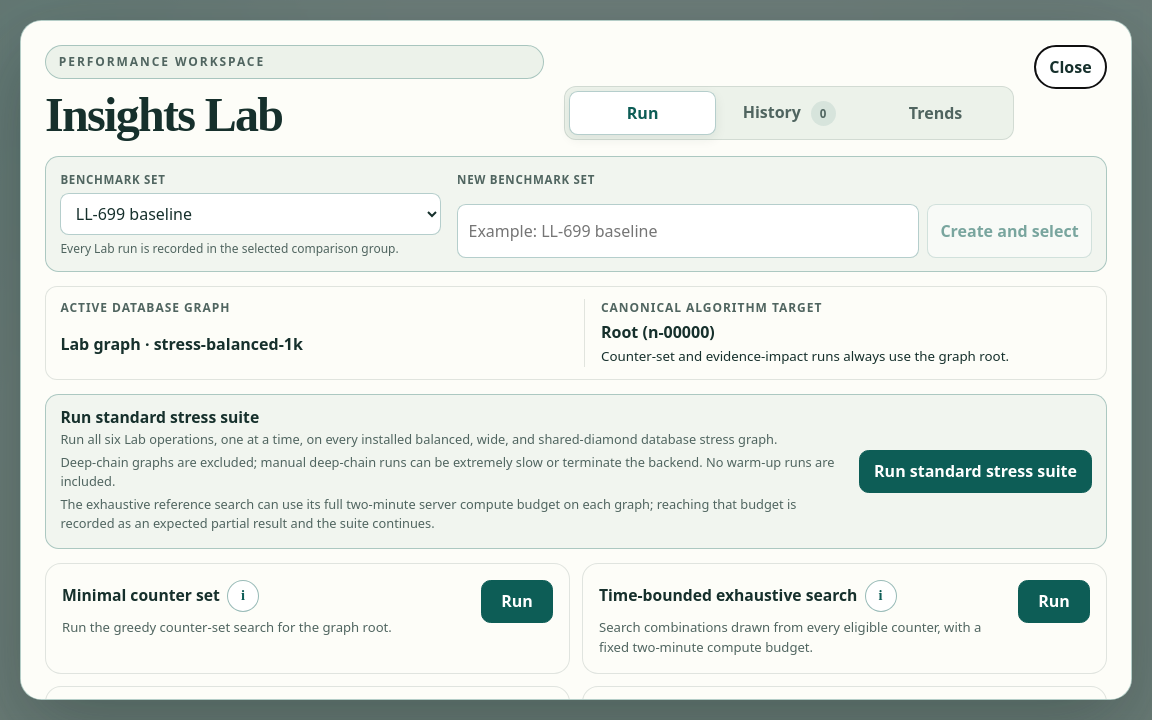
Test: InsightsLabDialog › uses and explains the canonical root for target-based stress runs
Expected: the text "Root (n-00000)" is shown, [601,321,715,343]
Expected: the text "Run the greedy counter-set search for the graph root." is shown, [62,618,392,638]
Click the button with aria-label "Run Minimal counter set": x=517, y=601 [481,580,553,623]
(page scrolled)
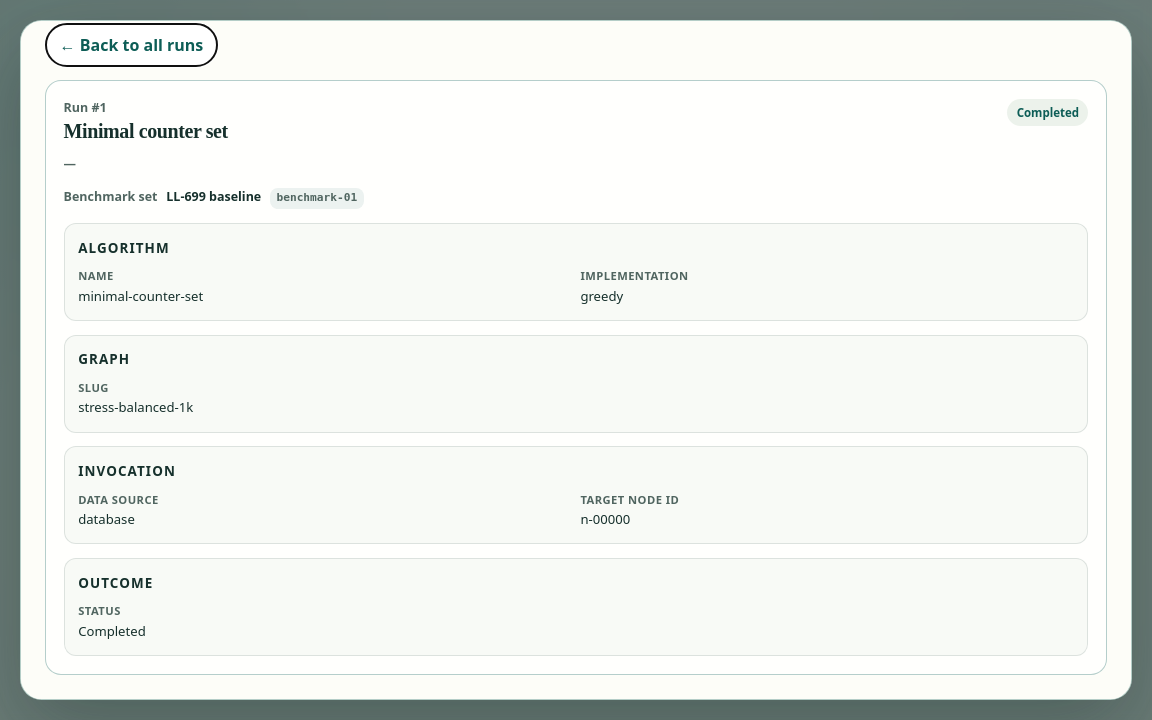
Expected: the element named "Report for run 1" is shown
